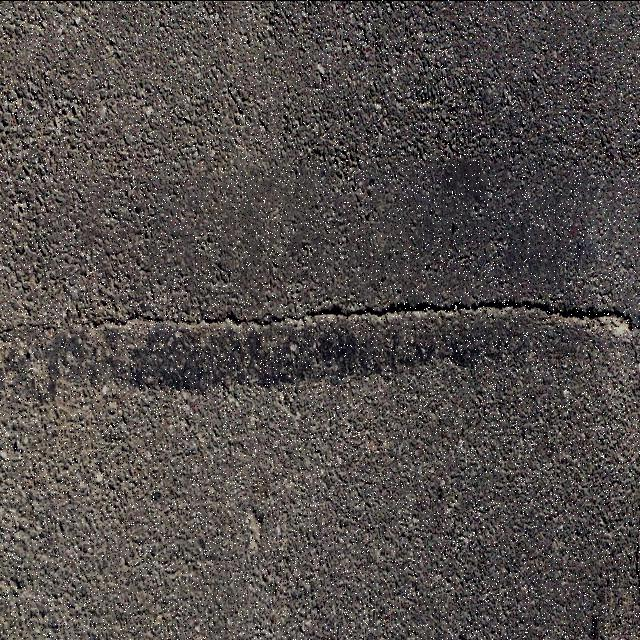Crack: (77, 298, 640, 334), (634, 460, 640, 615)
